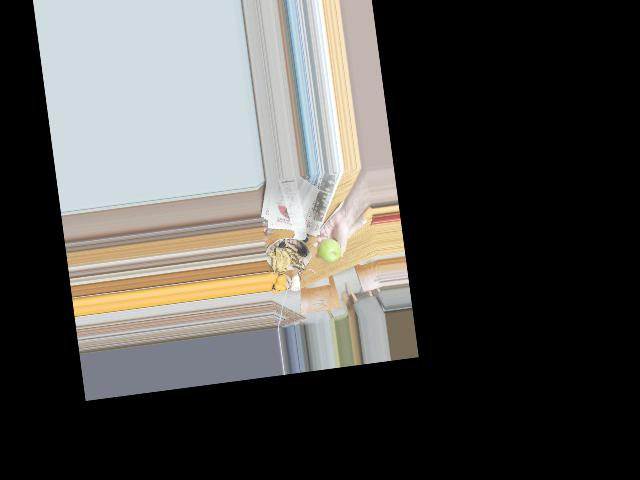apple: (316, 235, 342, 264)
